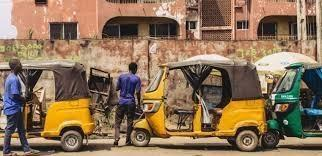keke: (128, 54, 265, 152), (250, 52, 320, 156)
